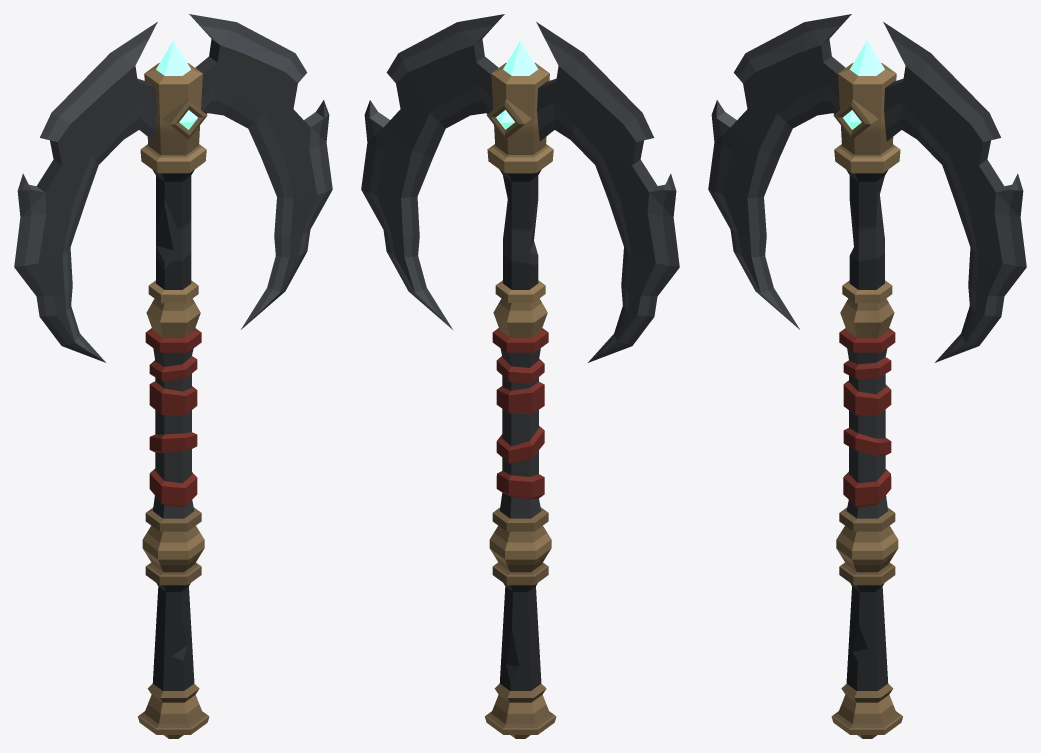
File: SM_Wep_Axe_01.fbx
3 renders of one model, left to right at view 1: azimuth 30°, elevation 25°; view 2: azimuth 150°, elevation 25°; view 3: azimuth 330°, elevation 25°, orthographic.
Visible parts, largest first — view 1: SM_Wep_Axe_01; view 2: SM_Wep_Axe_01; view 3: SM_Wep_Axe_01.
Part boxes in pixels (x1,y1,x2,y2): SM_Wep_Axe_01: (14,14,332,738); SM_Wep_Axe_01: (361,14,679,738); SM_Wep_Axe_01: (708,14,1026,738).
Bounding box in the file's own units: 56.63 × 122 × 11.5.
